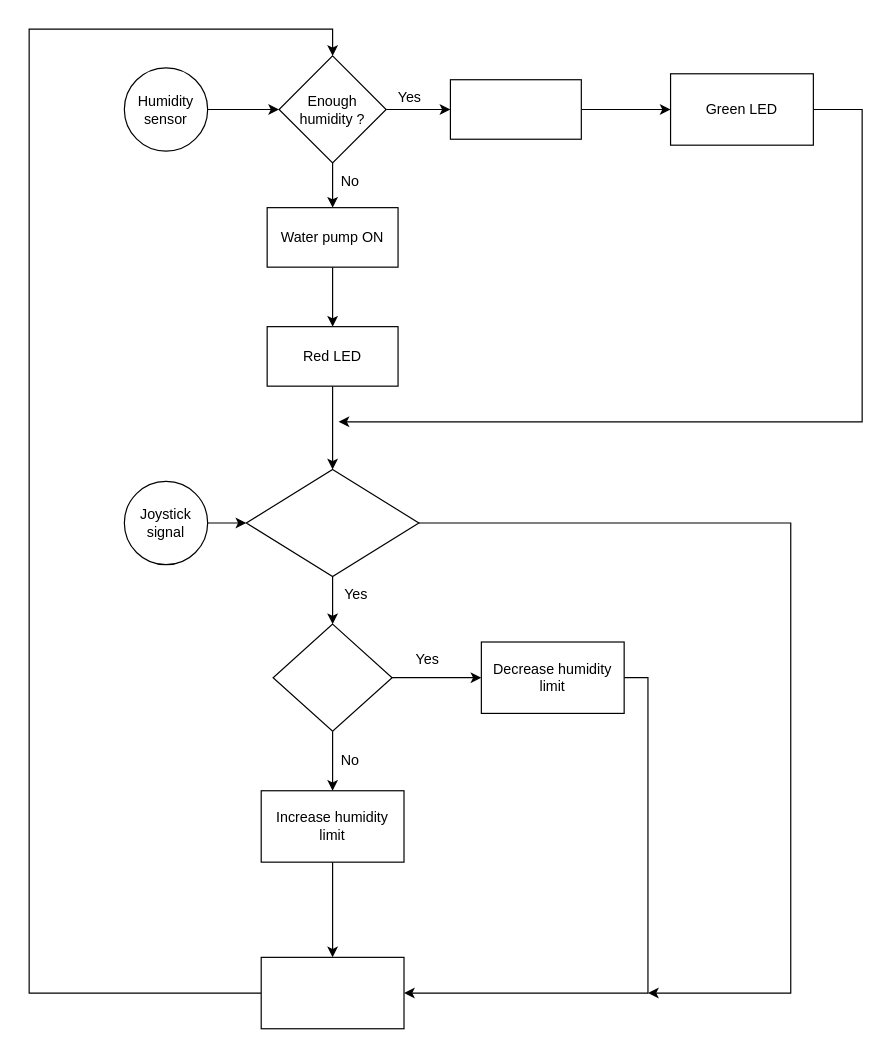
The diagram is 893 pixels wide and 1050 high, and some of its shapes have lost their labels. Each missing label, with the centre of its shape:
"Display humidity and limit" belongs at (332,992).
"Water pump OFF" belongs at (515,109).
"y > 700 ?" belongs at (332,677).
"y > 700 or y < 300 ?" belongs at (332,522).
